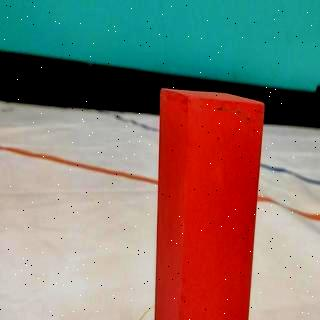redbox: (156, 87, 264, 320)
